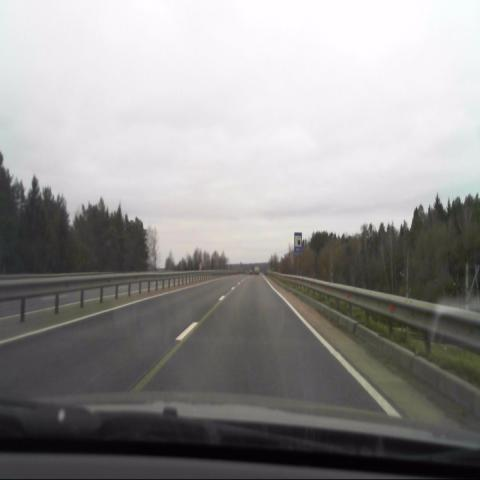7_3: (293, 231, 302, 252)
